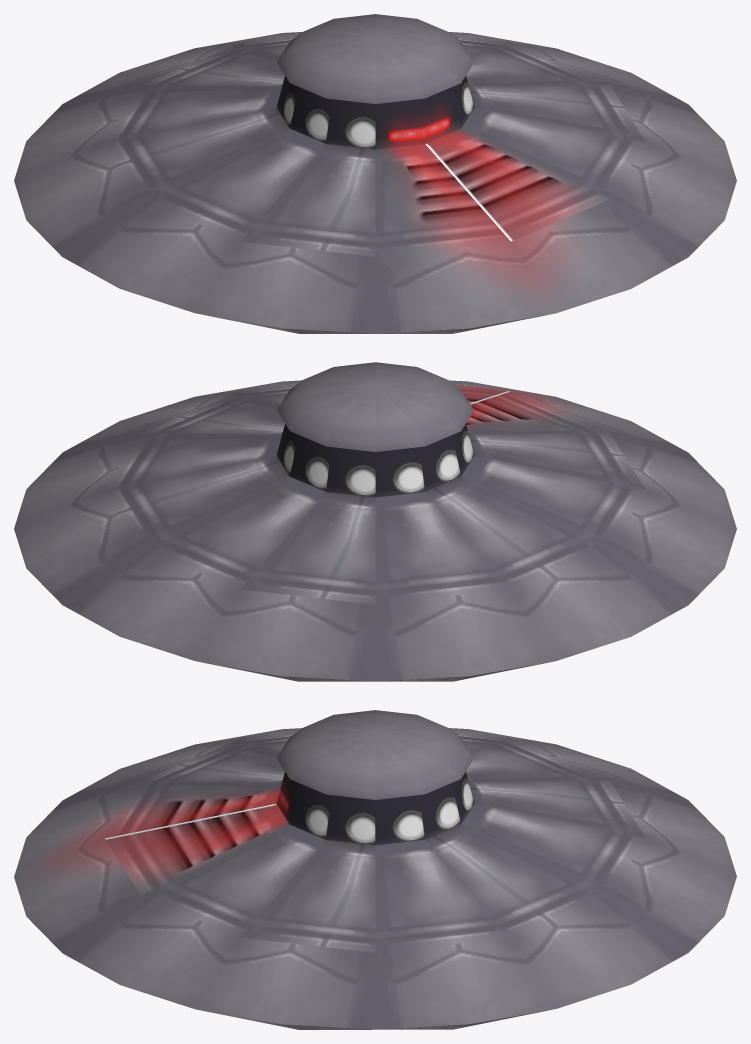
Rendered from probeufo.obj.
3 views of the same model, one above another, from view 1: azimuth 30°, elevation 25°; view 2: azimuth 150°, elevation 25°; view 3: azimuth 270°, elevation 25° (orthographic).
Visible parts, largest first — view 1: body; view 2: body; view 3: body.
Boxes of the visible parts, x1,y1,x2,y2 form: body: (14, 14, 736, 333); body: (14, 362, 736, 681); body: (14, 710, 736, 1029).
Size of the model in its own units: 13.29 by 4.81 by 13.29.
